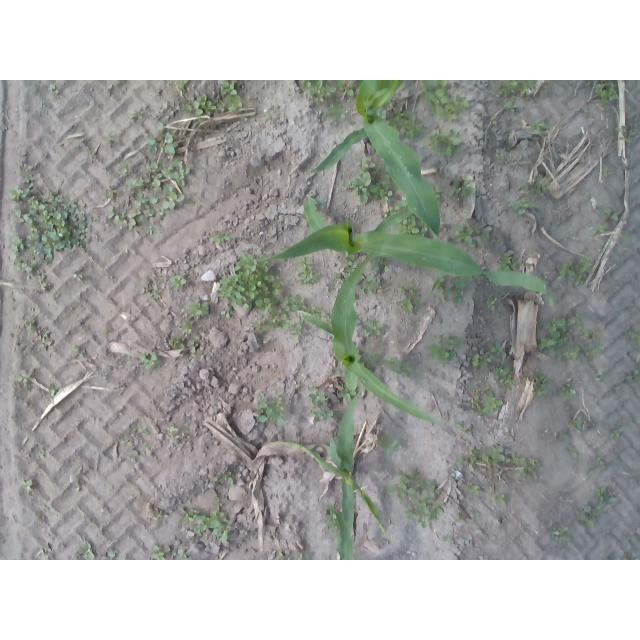Maize: (264, 195, 556, 312), (298, 249, 438, 424), (312, 80, 442, 237), (282, 393, 389, 536), (322, 501, 354, 560)
Weeds: (7, 176, 92, 291), (107, 123, 190, 237), (217, 251, 283, 313), (387, 468, 445, 528), (457, 444, 542, 480), (423, 80, 469, 121), (538, 314, 582, 355), (576, 485, 617, 528), (181, 509, 231, 543), (16, 314, 55, 350), (343, 171, 381, 203), (473, 376, 503, 416), (388, 109, 424, 140), (253, 392, 285, 425), (254, 320, 304, 340), (424, 335, 461, 362), (429, 129, 462, 157), (472, 340, 505, 367), (454, 223, 490, 247), (299, 80, 337, 102), (295, 256, 321, 285), (218, 82, 242, 113), (395, 286, 421, 314), (444, 281, 467, 308), (496, 81, 530, 99), (185, 94, 215, 114), (140, 278, 167, 300), (594, 81, 619, 104), (494, 365, 518, 387), (449, 180, 476, 199), (574, 258, 591, 287), (386, 358, 410, 378), (360, 274, 381, 294), (141, 353, 163, 372), (311, 407, 333, 426), (329, 102, 347, 125), (512, 197, 534, 215), (186, 303, 208, 320), (534, 373, 551, 395), (283, 294, 306, 310), (377, 439, 401, 454), (74, 544, 95, 561), (309, 391, 330, 407), (365, 319, 383, 337), (22, 480, 38, 500), (401, 218, 419, 235), (152, 544, 171, 560), (615, 126, 634, 142), (211, 230, 229, 246), (170, 274, 188, 290), (337, 81, 356, 96), (582, 329, 603, 342), (552, 526, 568, 543), (357, 156, 376, 170), (334, 268, 351, 283), (371, 257, 389, 271), (559, 385, 577, 399), (562, 347, 580, 361), (326, 514, 339, 533), (585, 344, 604, 357), (625, 330, 640, 346), (561, 260, 576, 276), (16, 369, 33, 383), (215, 472, 233, 485), (520, 185, 545, 194), (175, 81, 190, 96), (603, 207, 618, 221), (500, 253, 511, 272), (167, 426, 180, 442), (168, 336, 185, 348), (130, 427, 150, 437), (71, 345, 86, 358), (179, 322, 194, 335), (593, 222, 608, 235), (343, 256, 357, 269), (466, 481, 479, 495), (361, 354, 379, 364), (271, 309, 288, 319), (485, 294, 495, 311), (128, 109, 145, 119), (380, 190, 393, 203), (566, 443, 578, 457), (610, 427, 625, 438), (308, 308, 325, 317), (570, 416, 582, 428), (47, 384, 58, 396), (626, 370, 639, 380), (188, 339, 197, 353), (442, 534, 454, 544), (437, 275, 445, 290), (396, 285, 408, 295), (431, 186, 441, 198), (495, 494, 506, 504), (109, 132, 116, 147), (115, 357, 125, 367), (108, 549, 118, 559), (559, 430, 570, 439), (602, 166, 611, 177), (535, 120, 544, 131), (503, 103, 517, 110), (122, 439, 135, 446), (49, 86, 59, 95), (267, 110, 278, 118), (131, 445, 139, 455), (456, 420, 464, 430), (390, 206, 399, 214), (596, 456, 604, 465), (156, 507, 163, 517), (453, 515, 462, 522), (222, 311, 231, 318), (625, 552, 632, 561), (491, 116, 498, 125), (588, 469, 596, 476), (622, 233, 630, 240), (472, 509, 481, 515), (103, 330, 110, 336), (624, 535, 630, 541), (475, 530, 481, 535), (609, 556, 616, 560), (469, 520, 474, 525), (556, 354, 560, 360)
